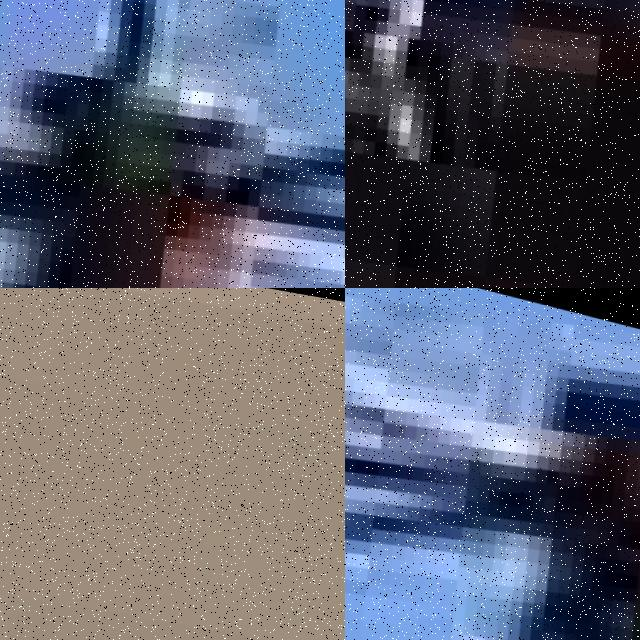drone: (345, 288, 640, 640), (0, 0, 345, 288), (345, 0, 640, 288)
